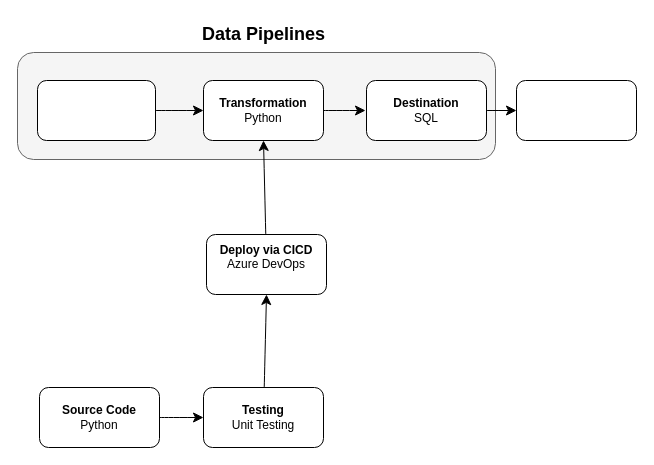
The diagram is 654 pixels wide and 465 high, and some of its shapes have lost their labels. Here are the shapes that lost their labels. From the top down, the box of each, then its label:
(36, 80, 156, 140): Sources CsV files
(516, 80, 636, 140): Analyse Power BI
